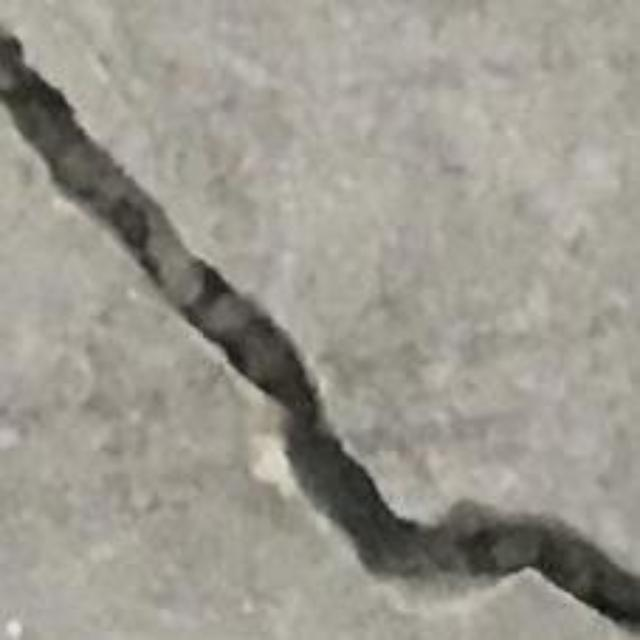crack: (0, 26, 639, 628)
